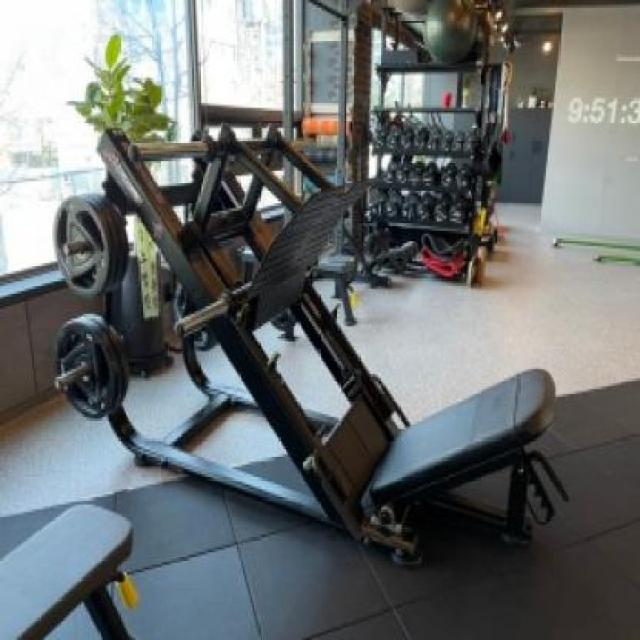leg press: (41, 105, 598, 586)
